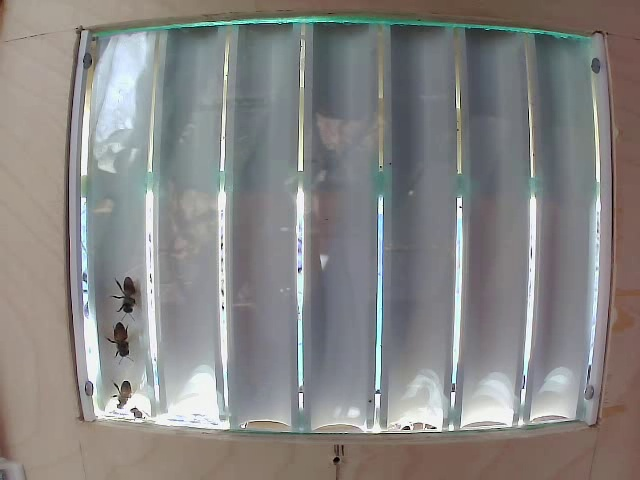bee: (113, 271, 164, 321), (102, 308, 135, 361), (98, 368, 144, 405)
